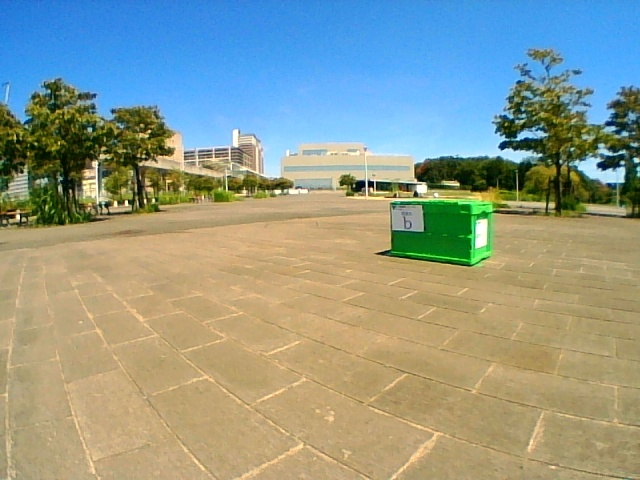green_box: (391, 202, 491, 266)
tag_b: (391, 205, 422, 230)
